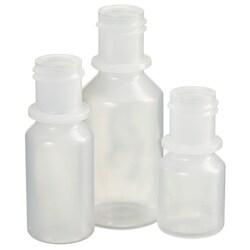LDPE: (82, 4, 163, 230), (26, 54, 94, 245), (158, 85, 225, 237)
